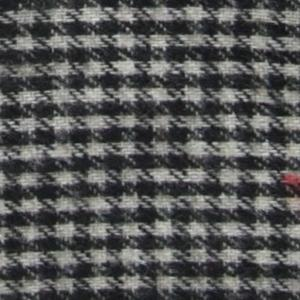Stain: (278, 168, 300, 200)
